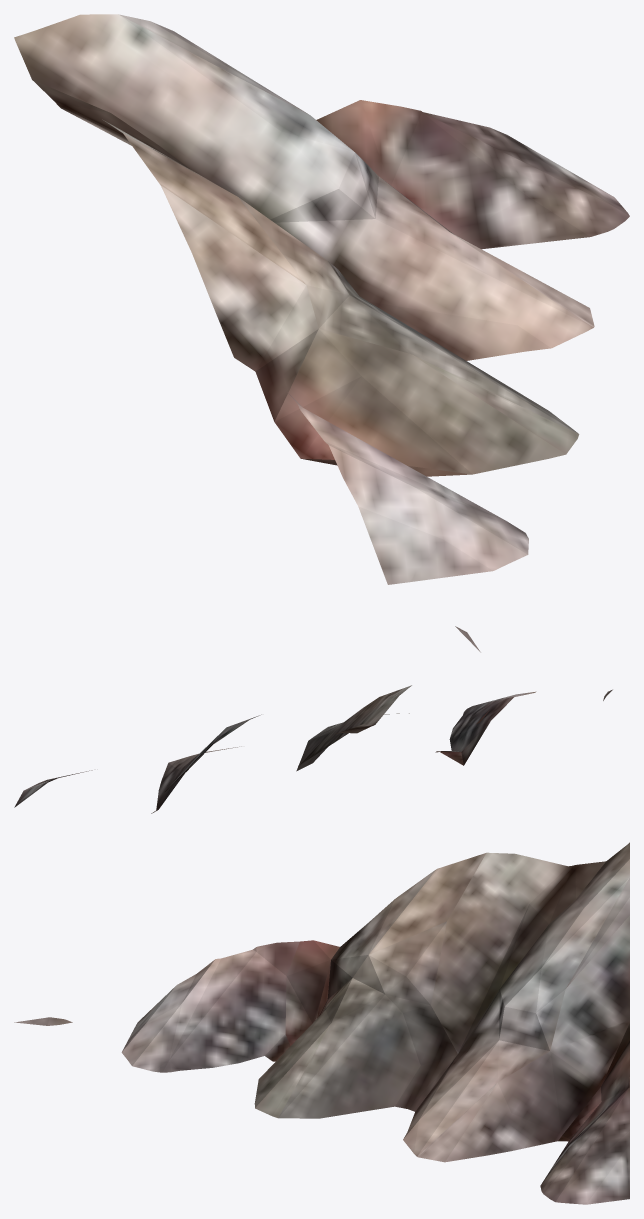
3 views of the same model, one above another, from view 1: azimuth 30°, elevation 25°; view 2: azimuth 150°, elevation 25°; view 3: azimuth 270°, elevation 25° (orthographic). The views are drawn at different scales.
Size of the model in its own units: 0.5045 by 0.2384 by 0.7205.
Materials: 1 (1 with a texture image).
